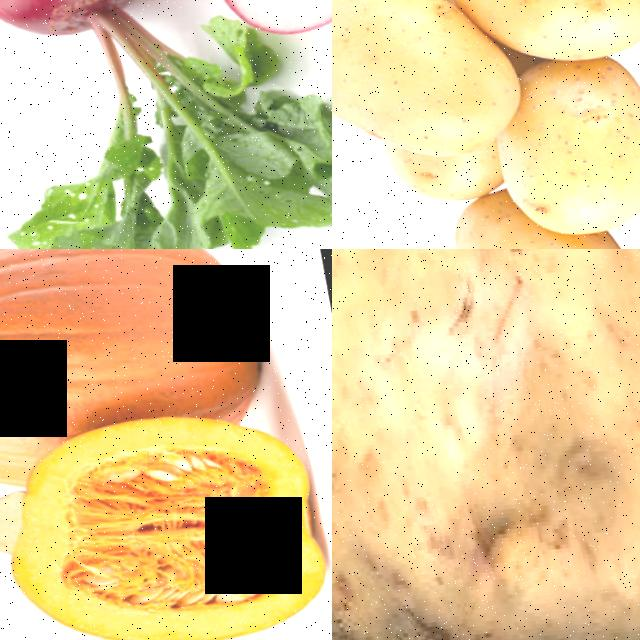potato: (332, 249, 640, 640), (332, 0, 518, 185), (488, 35, 640, 229), (435, 0, 640, 66), (447, 196, 640, 249)
pumpkin: (0, 369, 332, 640), (0, 249, 267, 474)
radishes: (0, 0, 332, 249)
